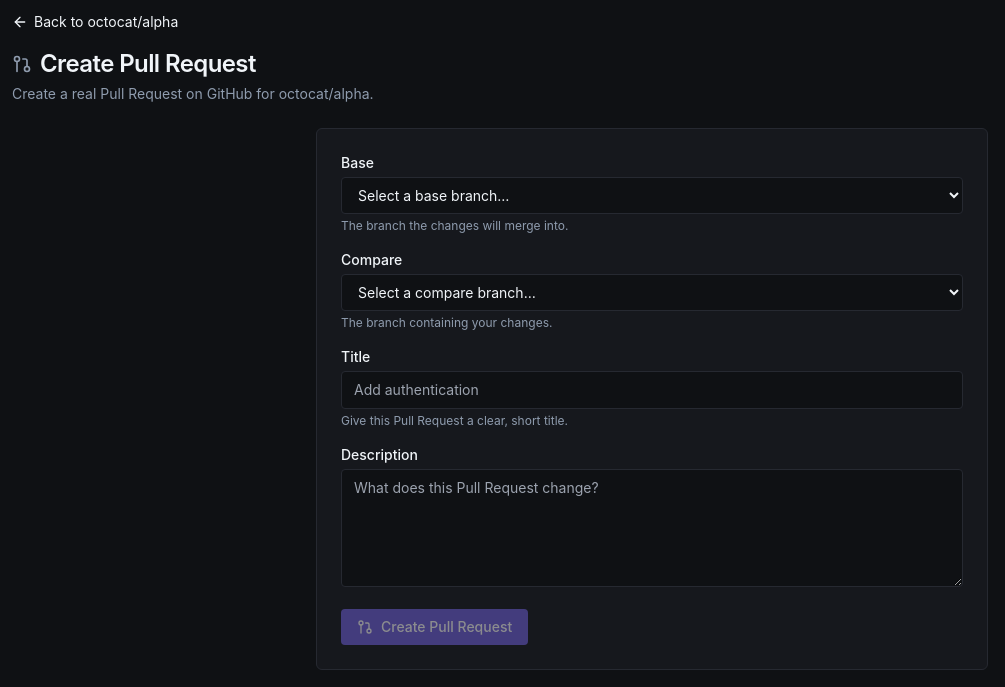
Test: CreatePullRequestPage › suggests a title from the compare branch
The image size is (1005, 687).
Expected: the field labelled "Title" is empty, [341, 371, 963, 409]
Select "feature/auth" in the dropdown labelled "Compare": (652, 292) [341, 274, 963, 311]
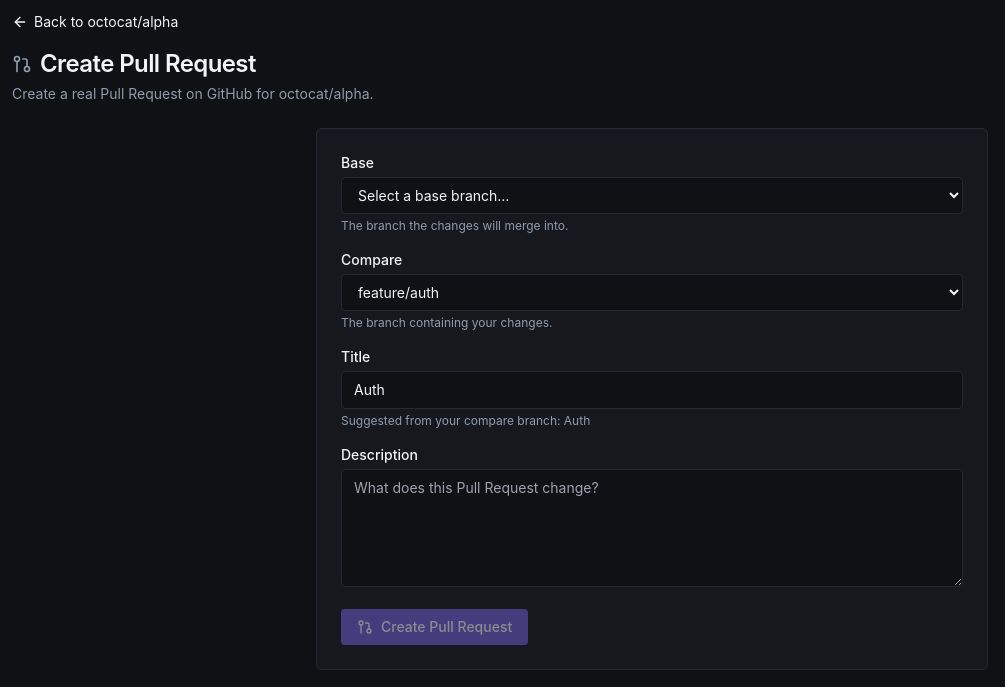
Expected: the field labelled "Title" holds "Auth", [341, 371, 963, 409]
